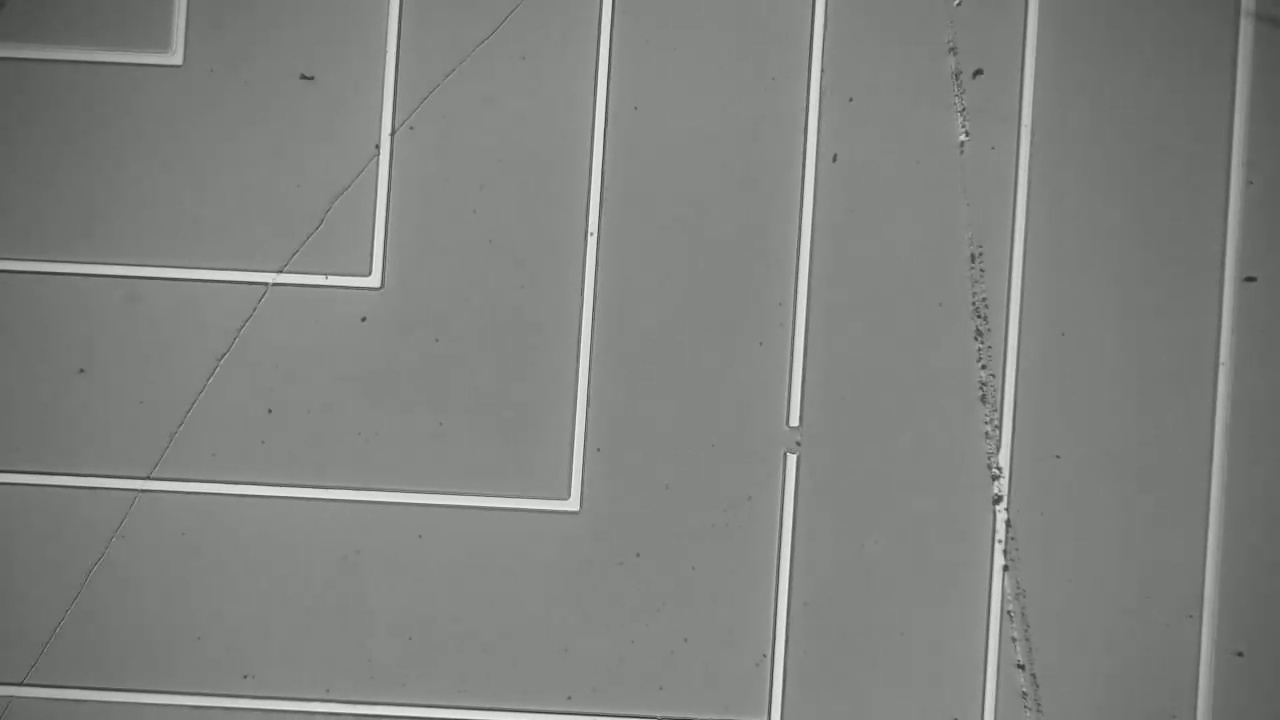open: (764, 398, 821, 473)
scratch: (5, 12, 519, 704), (932, 13, 1043, 708)
